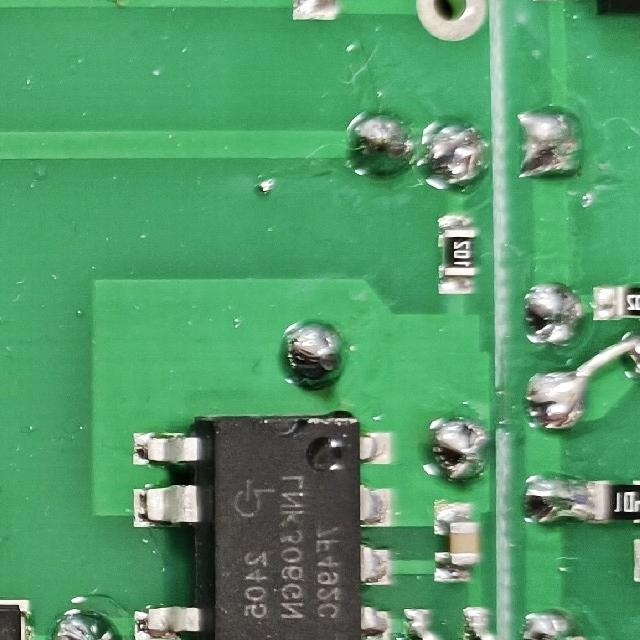chip-capacitor: (431, 499, 481, 586)
chip-resistor: (435, 212, 481, 297), (581, 477, 640, 526), (587, 283, 640, 325)
ic: (126, 407, 394, 640)
